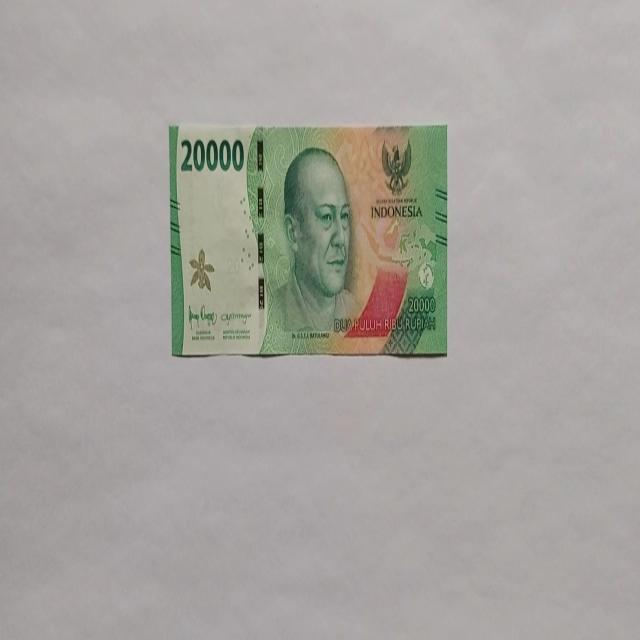dua puluh ribu rupiah: (168, 121, 448, 359), (260, 144, 364, 353)
